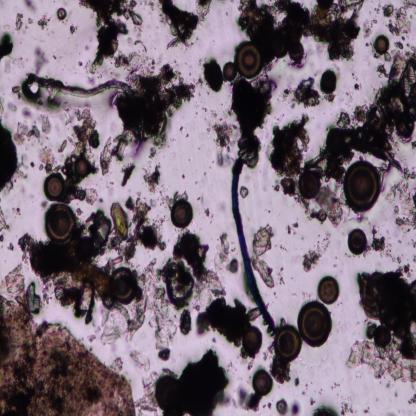Background material: (0, 294, 137, 414), (313, 77, 416, 177), (12, 232, 111, 324), (346, 266, 416, 385), (238, 0, 359, 64), (114, 62, 194, 143), (128, 256, 178, 358), (79, 0, 141, 68), (231, 76, 275, 168), (178, 348, 236, 416), (110, 195, 167, 262), (168, 233, 206, 333), (268, 113, 310, 195), (200, 294, 250, 344), (1, 265, 41, 317), (62, 107, 101, 160), (158, 0, 198, 50), (0, 122, 25, 193), (251, 221, 276, 288), (389, 175, 416, 229), (384, 0, 416, 42), (209, 230, 230, 294), (314, 187, 346, 229), (101, 130, 130, 173), (80, 211, 110, 251), (66, 173, 102, 205), (136, 370, 159, 415), (299, 240, 328, 274), (293, 74, 320, 109), (201, 56, 225, 94), (211, 115, 234, 148), (236, 385, 262, 413), (142, 164, 164, 194), (362, 4, 380, 40), (14, 119, 41, 142), (271, 358, 292, 386), (36, 146, 56, 174), (135, 40, 156, 66), (369, 228, 388, 253), (32, 47, 48, 75), (0, 27, 13, 61), (5, 54, 23, 78), (120, 162, 135, 186), (196, 0, 212, 21), (310, 404, 340, 415), (0, 199, 9, 235), (375, 59, 392, 77), (38, 112, 52, 133), (276, 85, 292, 103), (338, 401, 357, 416), (166, 189, 189, 201), (147, 144, 160, 164), (214, 151, 230, 167), (24, 0, 40, 14), (386, 249, 402, 263), (286, 221, 303, 234), (275, 399, 289, 414), (38, 13, 49, 32), (56, 137, 68, 154), (136, 0, 156, 10), (14, 13, 24, 33), (193, 72, 204, 90), (84, 73, 97, 88), (237, 185, 250, 199), (274, 238, 288, 251), (19, 105, 32, 119), (277, 266, 286, 286), (155, 192, 167, 207), (11, 204, 22, 219), (196, 103, 209, 115), (85, 329, 97, 341), (67, 22, 79, 34), (229, 260, 240, 273), (403, 263, 413, 277), (0, 96, 7, 116), (395, 40, 403, 57), (24, 19, 34, 32), (290, 401, 300, 414), (321, 232, 331, 245), (11, 87, 22, 98), (204, 209, 214, 221), (352, 82, 362, 94), (331, 379, 341, 391), (6, 102, 16, 113), (74, 206, 84, 217), (407, 395, 416, 406), (40, 198, 49, 208), (292, 376, 300, 387), (195, 195, 204, 204), (351, 73, 360, 82), (363, 406, 371, 416), (210, 108, 218, 118), (247, 357, 253, 369), (408, 239, 416, 247), (306, 398, 316, 404), (6, 242, 14, 249), (82, 43, 89, 51), (265, 401, 272, 409), (0, 235, 6, 244), (205, 127, 211, 133), (77, 60, 82, 67), (52, 56, 58, 61), (182, 173, 186, 180), (184, 133, 188, 138), (203, 172, 206, 178), (302, 391, 305, 396), (188, 158, 191, 162), (269, 211, 271, 213)
Cellulose filter fibre: (23, 70, 134, 98)
Cotton: (227, 158, 275, 332)
Diatom: (344, 159, 381, 212), (297, 300, 334, 348), (44, 203, 78, 242), (272, 322, 302, 362), (110, 264, 138, 305), (234, 41, 264, 77), (154, 374, 180, 408), (400, 57, 416, 108), (170, 199, 194, 228), (43, 172, 66, 202), (297, 171, 322, 198), (251, 367, 274, 396), (242, 324, 263, 354), (346, 227, 368, 255), (318, 275, 338, 304), (373, 324, 391, 349), (321, 68, 337, 94), (286, 42, 306, 61), (75, 157, 91, 177), (223, 61, 238, 82), (375, 35, 390, 56), (56, 7, 67, 21)
